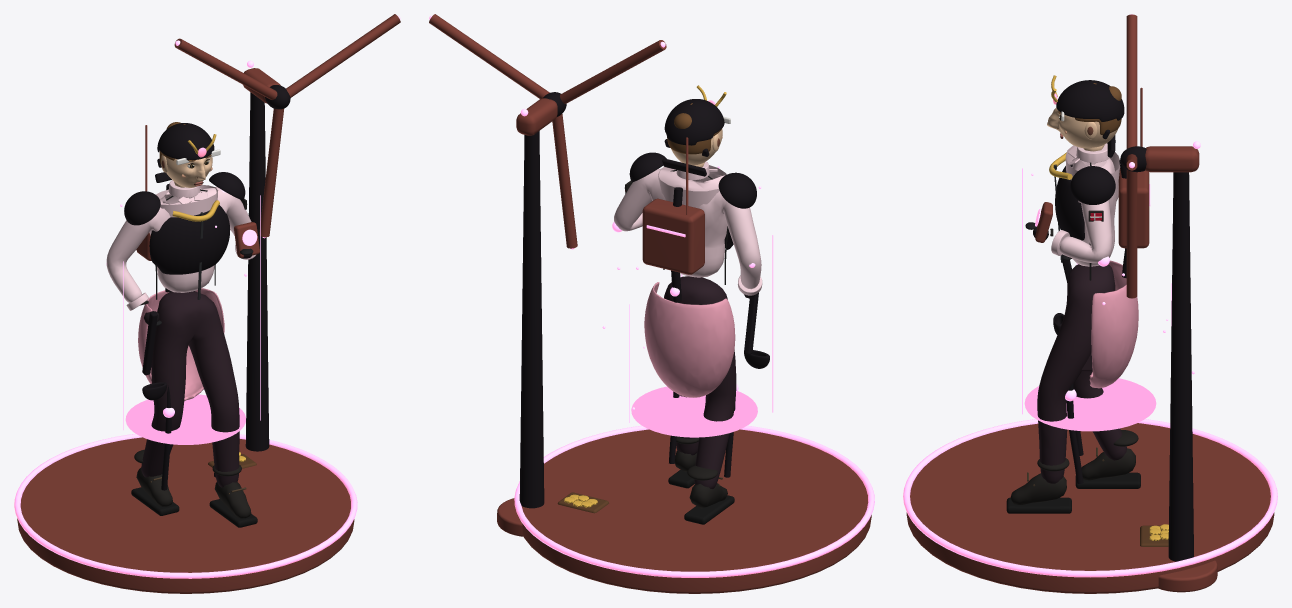
Rendered from moelle_sakura.glb.
The picture shows the model from 3 angles, left to right: view 1: azimuth 30°, elevation 25°; view 2: azimuth 150°, elevation 25°; view 3: azimuth 270°, elevation 25°; orthographic projection. The views are drawn at different scales.
Visible parts, largest first — view 1: fod_net, menneske_net, vindmoelle_net, op2_net, spin_net, op4.001_net, hoved_net, vaaben_net, op4_net; view 2: fod_net, menneske_net, vindmoelle_net, spin_net, op4.001_net, op3_net, hoved_net, op2_net, op4_net, vaaben_net; view 3: fod_net, menneske_net, vindmoelle_net, hoved_net, op4.001_net, spin_net, op2_net, op3_net, op4_net, vaaben_net.
Boxes of the visible parts, bbox=[...] form: fod_net: bbox=[14, 433, 357, 593]; menneske_net: bbox=[106, 180, 257, 527]; vindmoelle_net: bbox=[208, 60, 280, 468]; op2_net: bbox=[124, 172, 245, 274]; spin_net: bbox=[174, 14, 400, 238]; op4.001_net: bbox=[120, 195, 260, 444]; hoved_net: bbox=[155, 122, 220, 187]; vaaben_net: bbox=[142, 222, 259, 400]; op4_net: bbox=[106, 184, 225, 490]; fod_net: bbox=[514, 425, 874, 593]; menneske_net: bbox=[614, 161, 762, 524]; vindmoelle_net: bbox=[497, 98, 608, 536]; spin_net: bbox=[429, 14, 666, 249]; op4.001_net: bbox=[602, 166, 773, 437]; op3_net: bbox=[642, 137, 704, 274]; hoved_net: bbox=[662, 85, 730, 176]; op2_net: bbox=[629, 152, 756, 249]; op4_net: bbox=[612, 169, 755, 477]; vaaben_net: bbox=[744, 292, 769, 368]; fod_net: bbox=[903, 419, 1277, 593]; menneske_net: bbox=[1006, 143, 1140, 513]; vindmoelle_net: bbox=[1140, 141, 1217, 592]; hoved_net: bbox=[1047, 75, 1124, 157]; op4.001_net: bbox=[1022, 168, 1194, 431]; spin_net: bbox=[1120, 14, 1146, 298]; op2_net: bbox=[1049, 140, 1115, 240]; op3_net: bbox=[1118, 87, 1150, 248]; op4_net: bbox=[1065, 160, 1126, 483]; vaaben_net: bbox=[1035, 202, 1071, 334].
Size of the model in its own units: 2.49 by 2.91 by 1.94.
